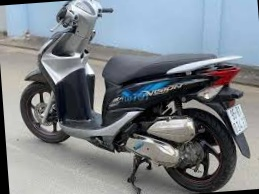Bien-so: (220, 117, 244, 150)
